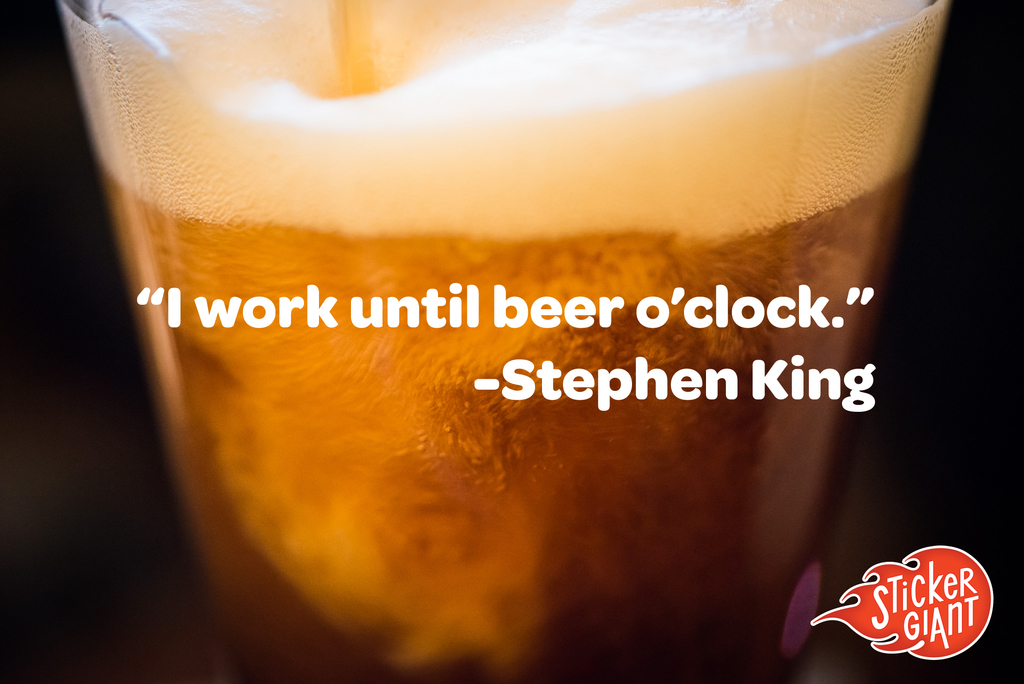Beer: (107, 0, 940, 684)
